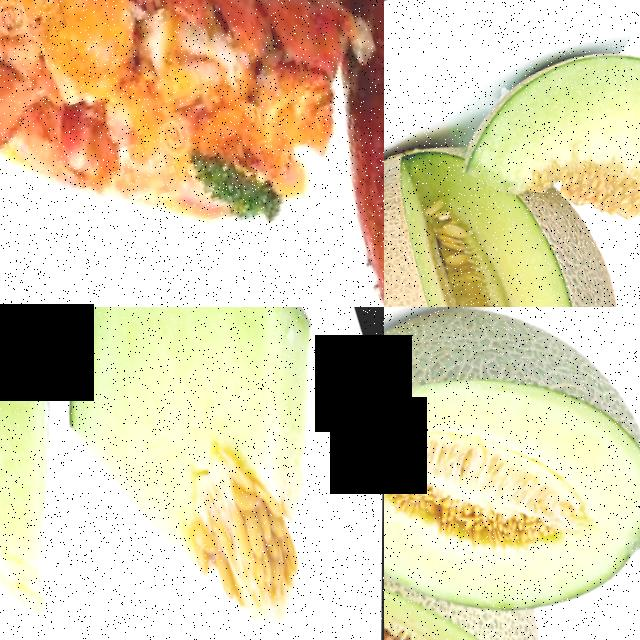lobster tails: (0, 0, 267, 256)
melon: (384, 307, 640, 640), (513, 6, 640, 307), (384, 129, 593, 307)
